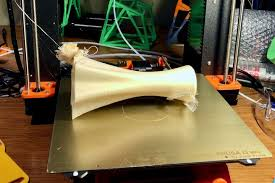fail: (12, 1, 98, 66), (168, 92, 202, 114)
